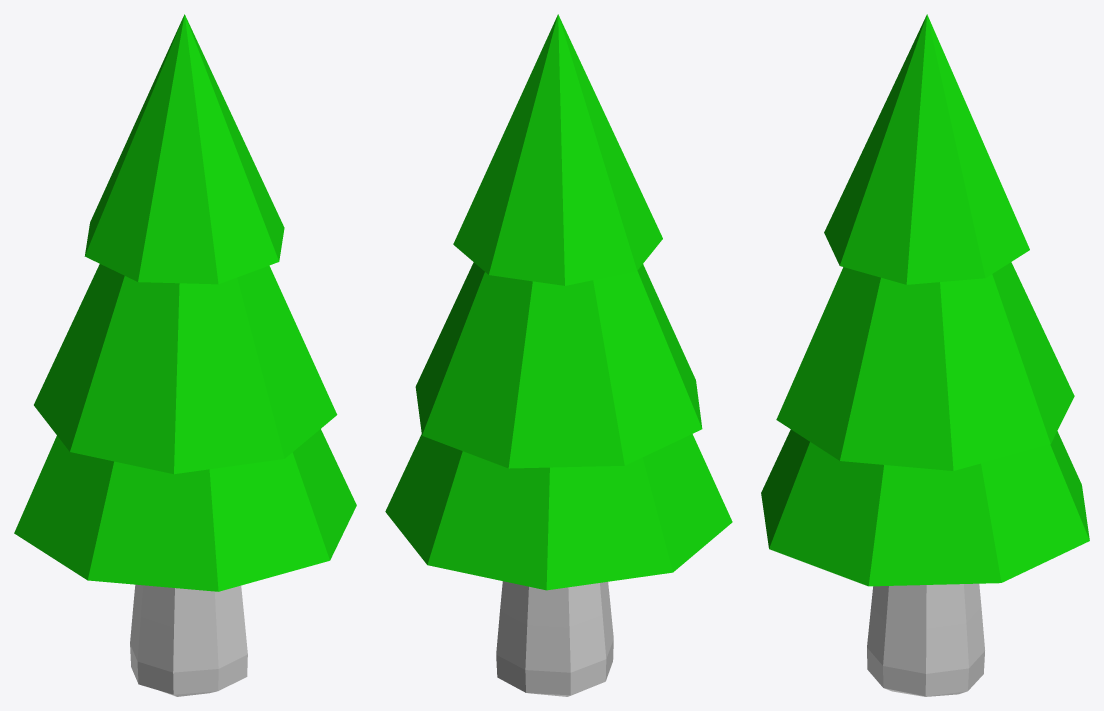
Rendered from Arvore(Generico III).fbx.
The picture shows the model from 3 angles, left to right: view 1: azimuth 30°, elevation 25°; view 2: azimuth 150°, elevation 25°; view 3: azimuth 270°, elevation 25°; orthographic projection.
Visible parts, largest first — view 1: Cone, Plane; view 2: Cone, Plane; view 3: Cone, Plane.
Boxes of the visible parts, bbox=[...] form: Cone: bbox=[14, 14, 356, 591]; Plane: bbox=[130, 584, 247, 696]; Cone: bbox=[385, 14, 732, 590]; Plane: bbox=[496, 581, 613, 696]; Cone: bbox=[761, 14, 1089, 586]; Plane: bbox=[867, 583, 984, 696].
Bounding box in the file's own units: 189 × 422 × 189.
